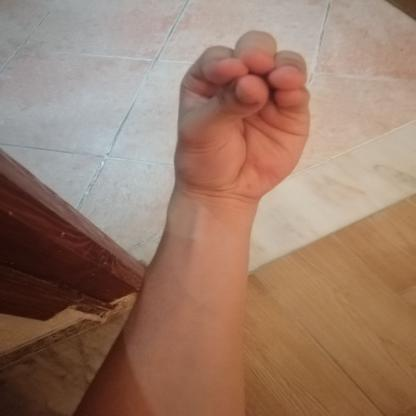HA: (150, 17, 334, 216)
